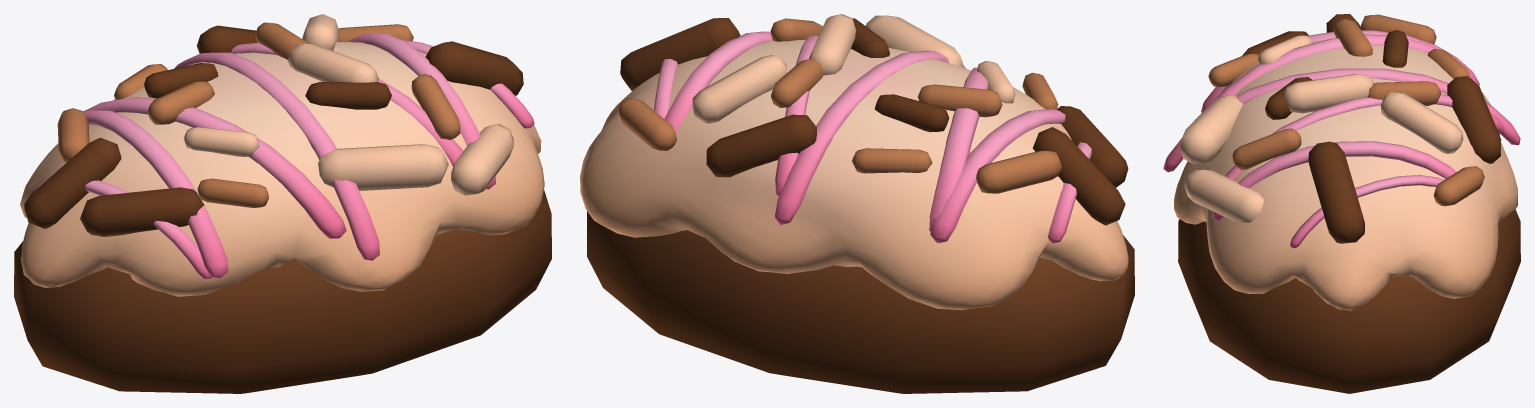
File: candy_choco_28.fbx
3 views of the same model, side by side, from view 1: azimuth 30°, elevation 25°; view 2: azimuth 150°, elevation 25°; view 3: azimuth 270°, elevation 25° (orthographic). The views are drawn at different scales.
Visible parts, largest first — view 1: c_c_28; view 2: c_c_28; view 3: c_c_28.
Part boxes in pixels (<box>): c_c_28: <box>14,14,551,393</box>; c_c_28: <box>580,14,1134,393</box>; c_c_28: <box>1163,14,1520,393</box>.
Bounding box in the file's own units: 182 × 89.76 × 122.
